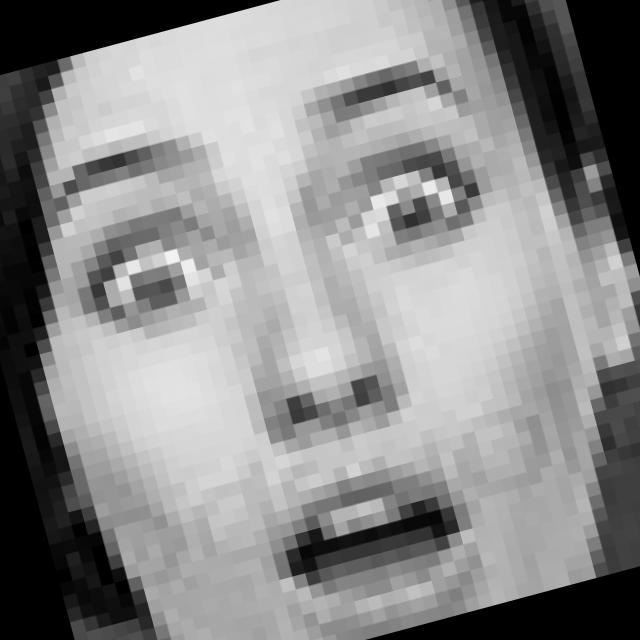surprise: (32, 41, 609, 640)
